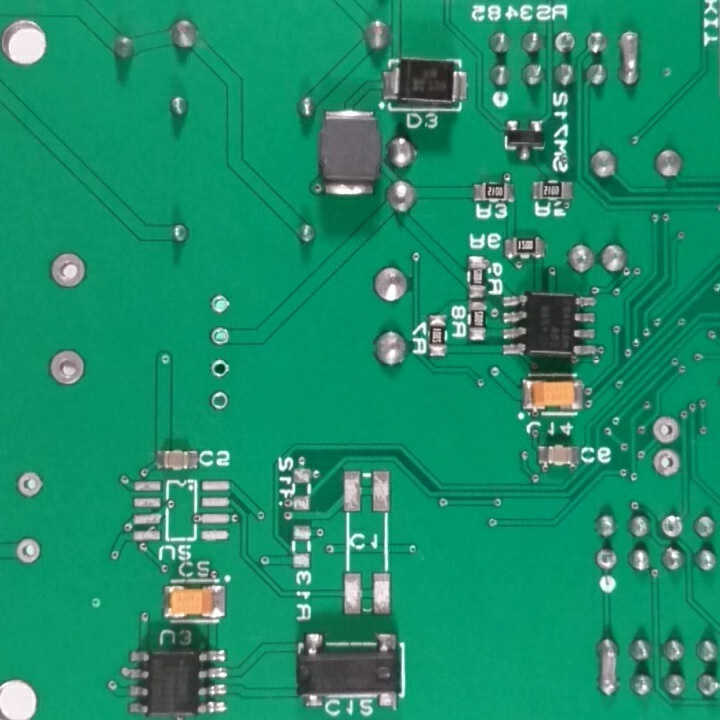F: (47, 346, 89, 388), (47, 249, 90, 289), (650, 412, 684, 449), (15, 469, 48, 503), (658, 510, 689, 543), (651, 447, 682, 479), (16, 535, 47, 567), (593, 545, 622, 578), (550, 28, 580, 55), (205, 289, 233, 317), (207, 324, 233, 349), (207, 355, 232, 379), (208, 387, 231, 412)
P: (613, 25, 644, 95), (594, 632, 621, 705)
